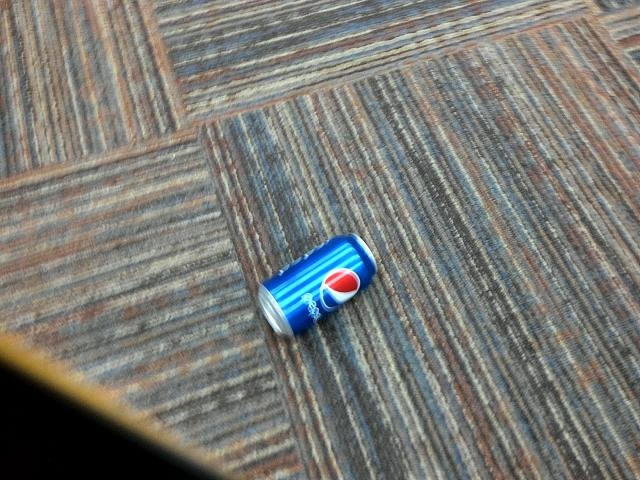can: (243, 221, 381, 343)
